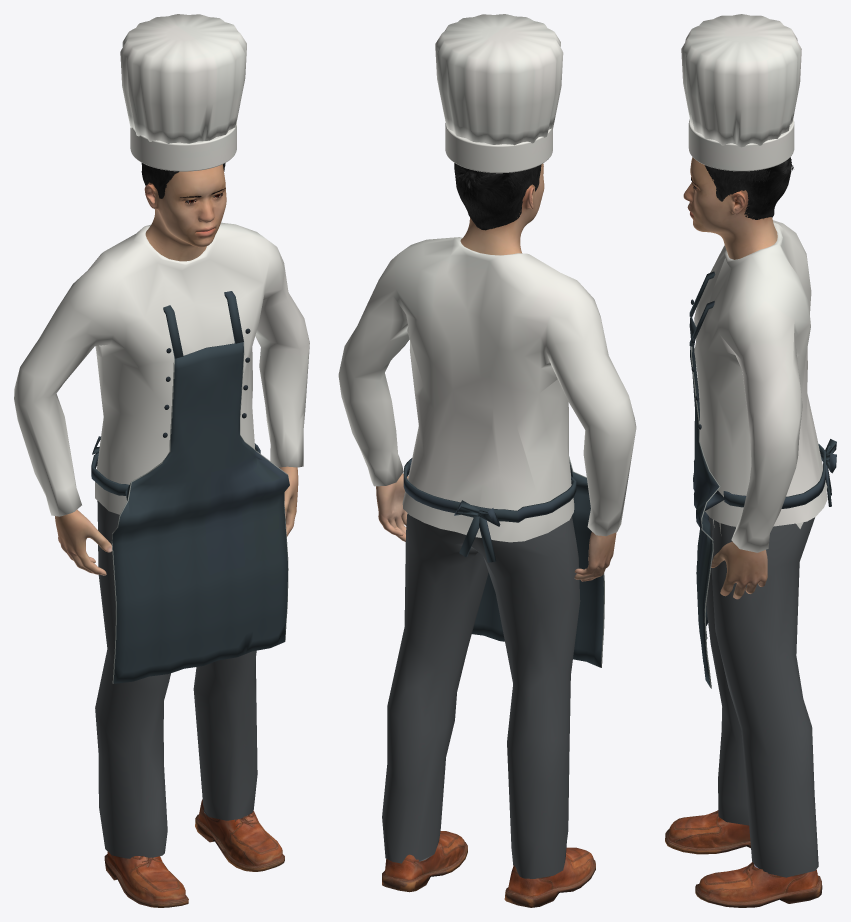
The model's file is premium-chef-sam.glb.
The picture shows the model from 3 angles, left to right: view 1: azimuth 30°, elevation 25°; view 2: azimuth 150°, elevation 25°; view 3: azimuth 270°, elevation 25°; orthographic projection.
Visible parts, largest first — view 1: male_casualsuit02, Chef | continuous bib and knee-length apron, Chef | tall pleated fabric toque, Sam | anatomical body, shoes01, Chef | fitted toque cloth band, short01, Chef | continuous apron waist tie; view 2: male_casualsuit02, Chef | tall pleated fabric toque, shoes01, Sam | anatomical body, Chef | continuous bib and knee-length apron, short01, Chef | fitted toque cloth band, Chef | continuous apron waist tie; view 3: male_casualsuit02, Chef | tall pleated fabric toque, shoes01, Sam | anatomical body, Chef | continuous bib and knee-length apron, Chef | fitted toque cloth band, short01, Chef | continuous apron waist tie, Chef | sewn apron side seam.001.
Part boxes in pixels (x1,y1,x2,y2): male_casualsuit02: [14, 222, 309, 858]; Chef | continuous bib and knee-length apron: [112, 342, 289, 683]; Chef | tall pleated fabric toque: [120, 14, 246, 143]; Sam | anatomical body: [55, 164, 298, 575]; shoes01: [104, 799, 284, 907]; Chef | fitted toque cloth band: [130, 122, 236, 171]; short01: [141, 163, 225, 198]; Chef | continuous apron waist tie: [91, 443, 260, 495]; male_casualsuit02: [338, 237, 636, 878]; Chef | tall pleated fabric toque: [435, 14, 563, 145]; shoes01: [382, 831, 595, 907]; Sam | anatomical body: [376, 163, 616, 581]; Chef | continuous bib and knee-length apron: [472, 462, 603, 667]; short01: [454, 163, 541, 230]; Chef | fitted toque cloth band: [445, 123, 552, 173]; Chef | continuous apron waist tie: [403, 458, 576, 522]; male_casualsuit02: [694, 220, 827, 877]; Chef | tall pleated fabric toque: [681, 14, 801, 147]; shoes01: [665, 810, 822, 907]; Sam | anatomical body: [683, 157, 777, 599]; Chef | continuous bib and knee-length apron: [689, 317, 724, 687]; Chef | fitted toque cloth band: [688, 119, 794, 171]; short01: [704, 157, 793, 219]; Chef | continuous apron waist tie: [723, 444, 826, 508]; Chef | sewn apron side seam.001: [691, 346, 720, 688].
Bounding box in the file's own units: 0.7211 × 2.01 × 0.3765.
13 materials, 13 textured.
